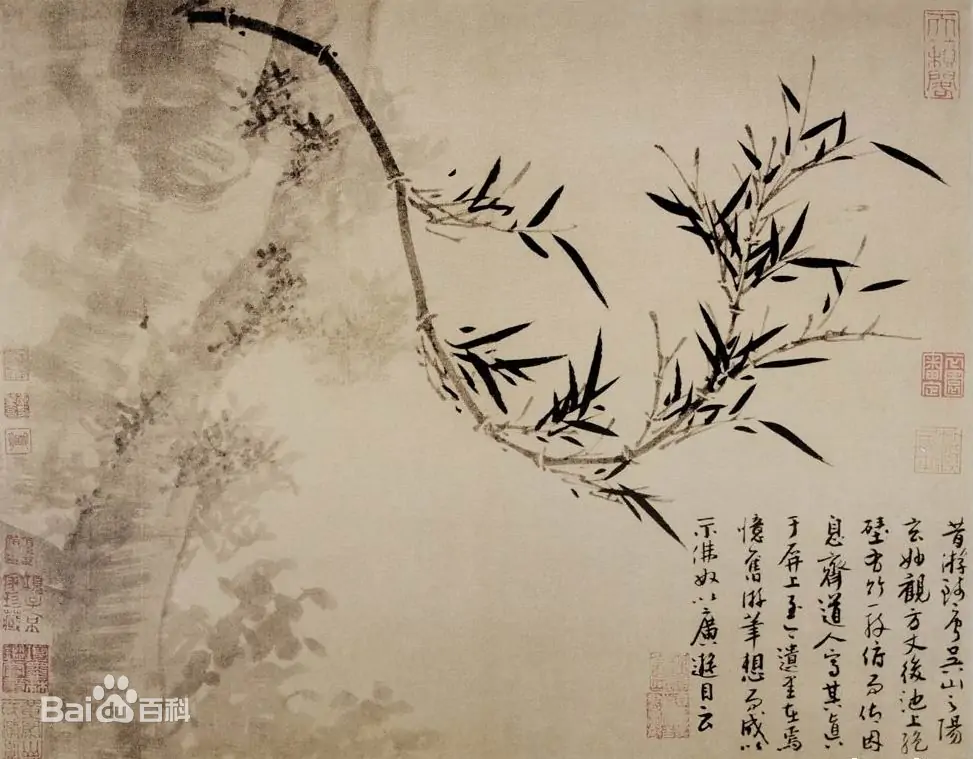pine: (179, 7, 944, 551)
